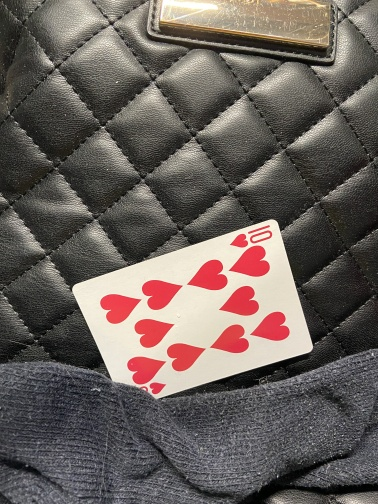ten: (70, 217, 315, 413)
